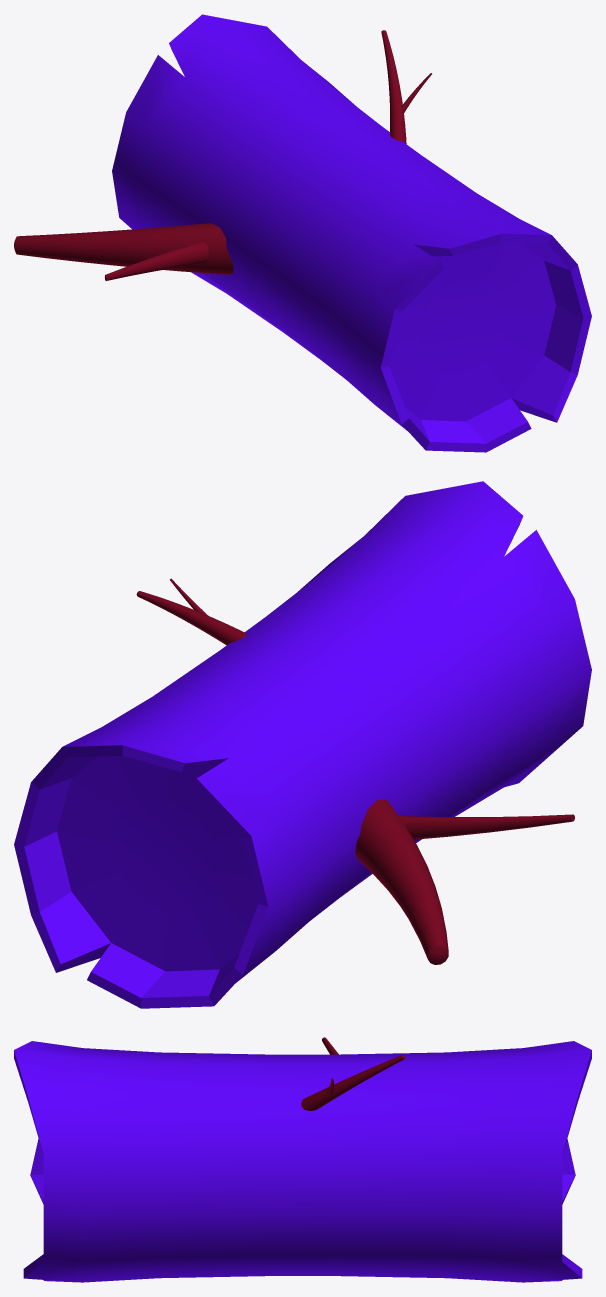
The model's file is Broken Log w Branches.fbx.
The picture shows the model from 3 angles, top to bottom: view 1: azimuth 30°, elevation 25°; view 2: azimuth 150°, elevation 25°; view 3: azimuth 270°, elevation 25°; orthographic projection. The views are drawn at different scales.
Visible parts, largest first — view 1: Cylinder2624; view 2: Cylinder2624; view 3: Cylinder2624.
Part boxes in pixels (x1,y1,x2,y2): Cylinder2624: (14, 14, 591, 452); Cylinder2624: (14, 481, 591, 1008); Cylinder2624: (14, 1037, 591, 1282).
Bounding box in the file's own units: 3.47 × 2.58 × 5.27.
